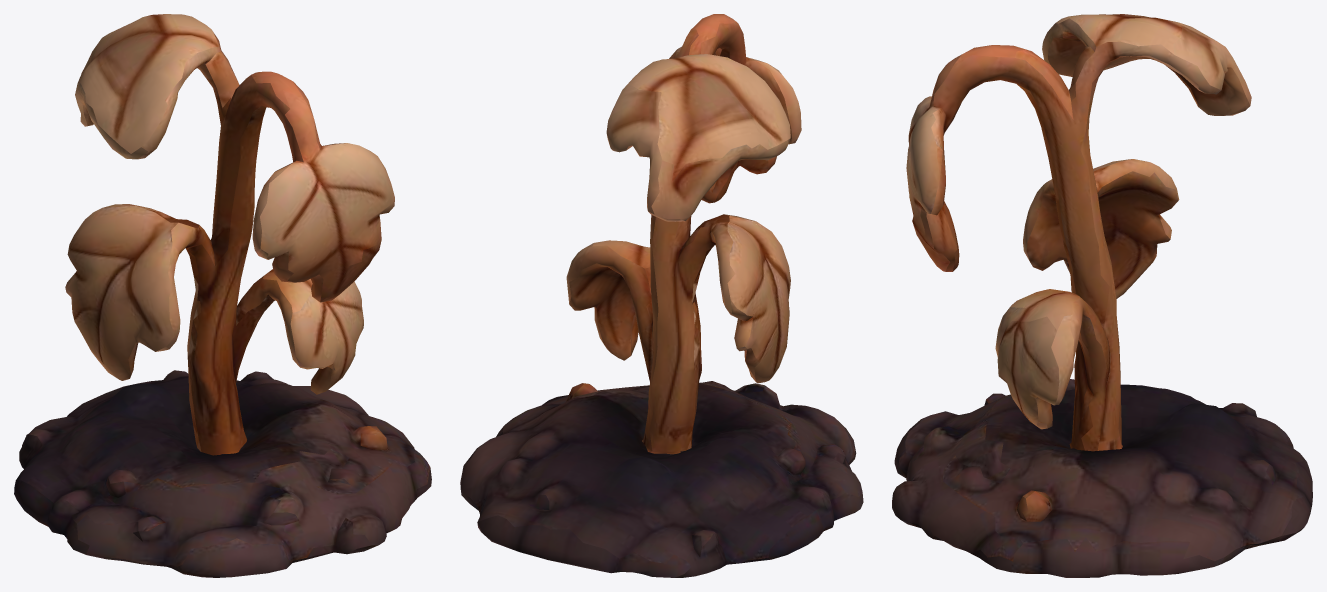
File: dead_plant.glb
3 renders of one model, left to right at view 1: azimuth 30°, elevation 25°; view 2: azimuth 150°, elevation 25°; view 3: azimuth 270°, elevation 25°, orthographic. The views are drawn at different scales.
Parts seen in each view (by area): view 1: dead_plant_s15; view 2: dead_plant_s15; view 3: dead_plant_s15.
Boxes of the visible parts, x1=… form: dead_plant_s15: x1=14, y1=14, x2=431, y2=577; dead_plant_s15: x1=460, y1=14, x2=863, y2=577; dead_plant_s15: x1=892, y1=14, x2=1312, y2=577.
Bounding box in the file's own units: 0.7998 × 1 × 0.8251.
Materials: 1 (1 with a texture image).
